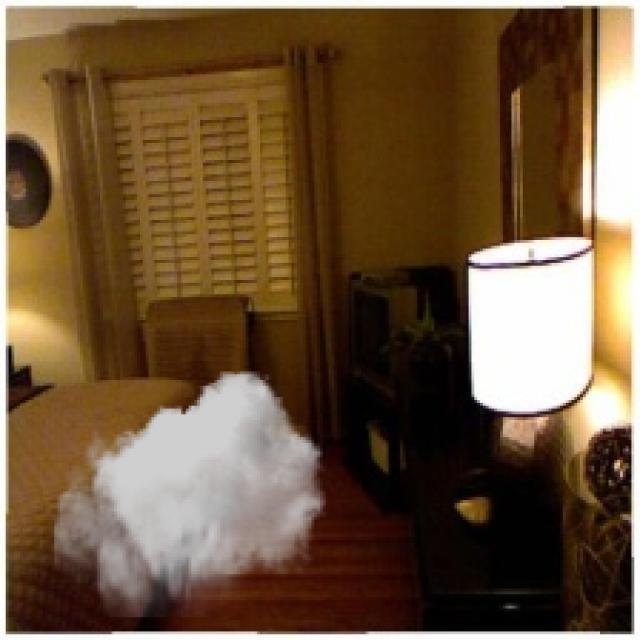Smoke: (54, 372, 326, 617)
